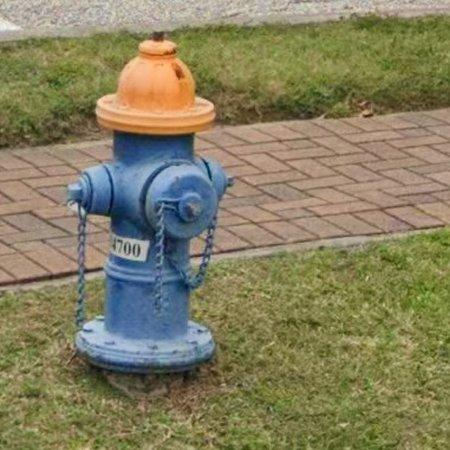a fire hydrant: (67, 35, 231, 374)
